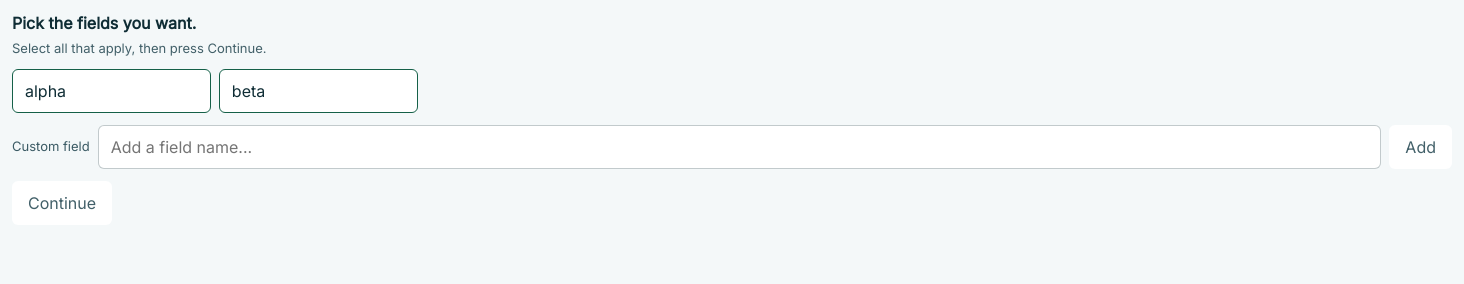
MultiSelectWithCustomTurn — custom-add › clicking the X on a custom chip removes it from customs
Type "delta" into the field labelled "Custom field" at (740, 147), box [98, 125, 1381, 169]
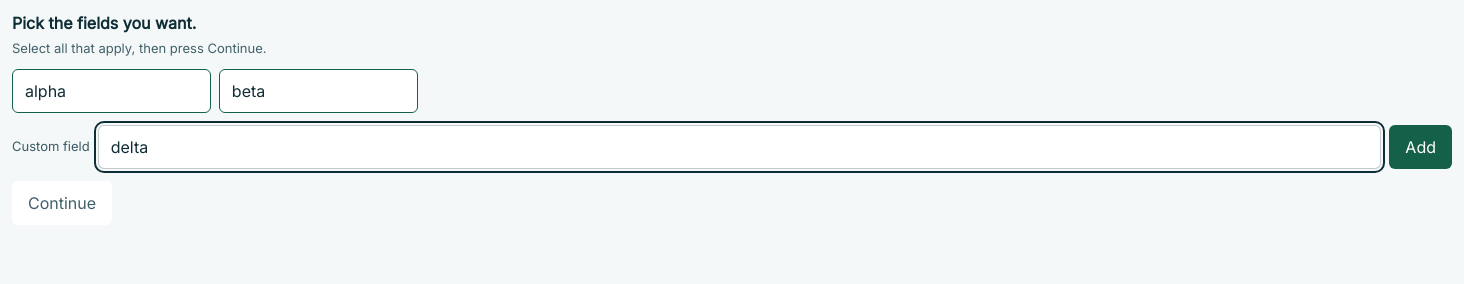
Click the button "Add" at (1421, 147), box [1389, 125, 1452, 169]
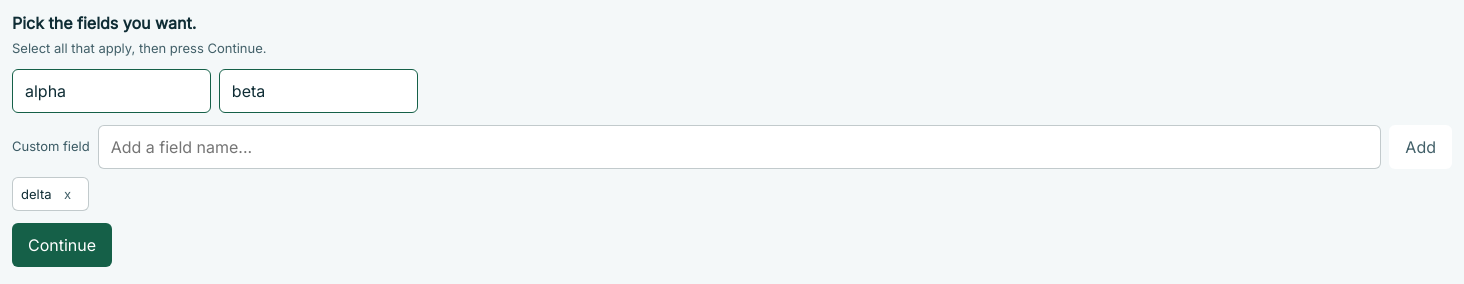
Expected: the text "delta" is shown, [21, 188, 52, 201]
Click the button named "remove delta" at (68, 194), box [56, 182, 80, 206]
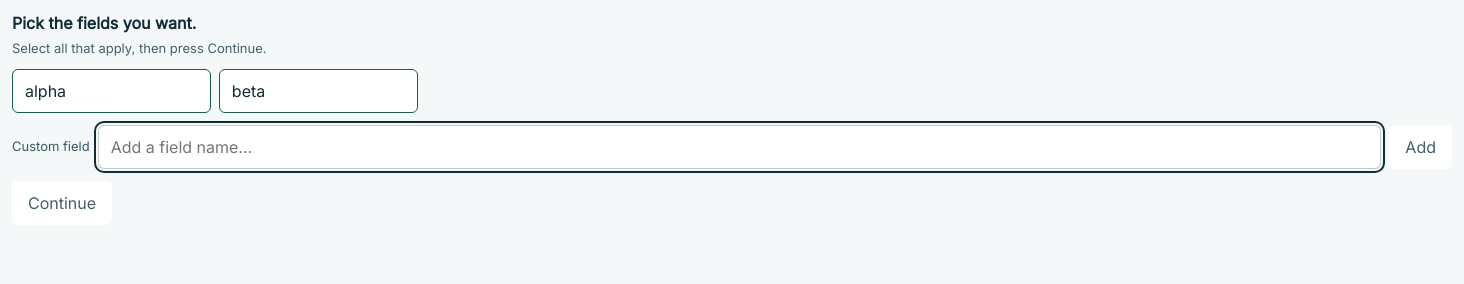
Expected: the text "delta" is gone
